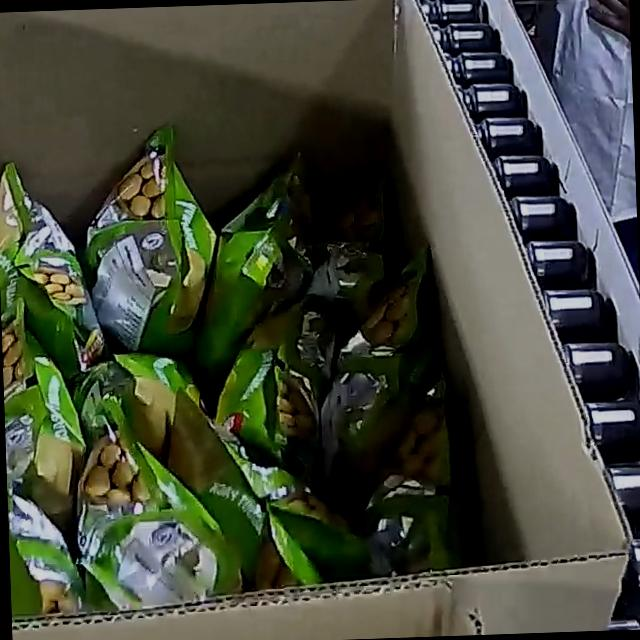yogurt: (0, 112, 458, 619)
